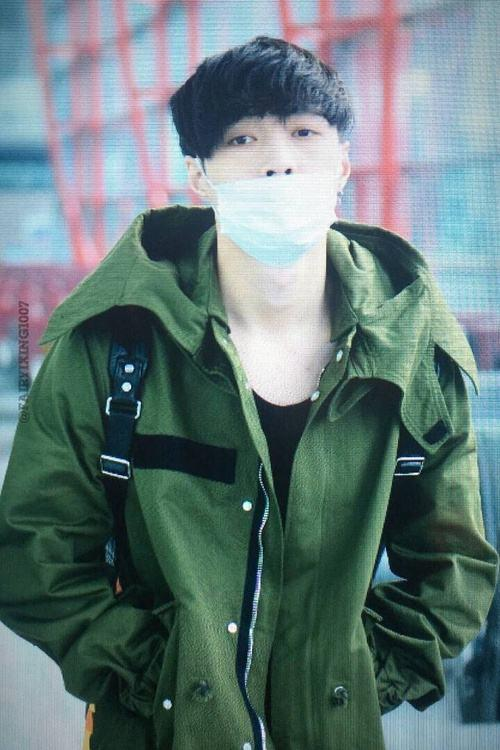WRONG: (208, 106, 340, 269)
